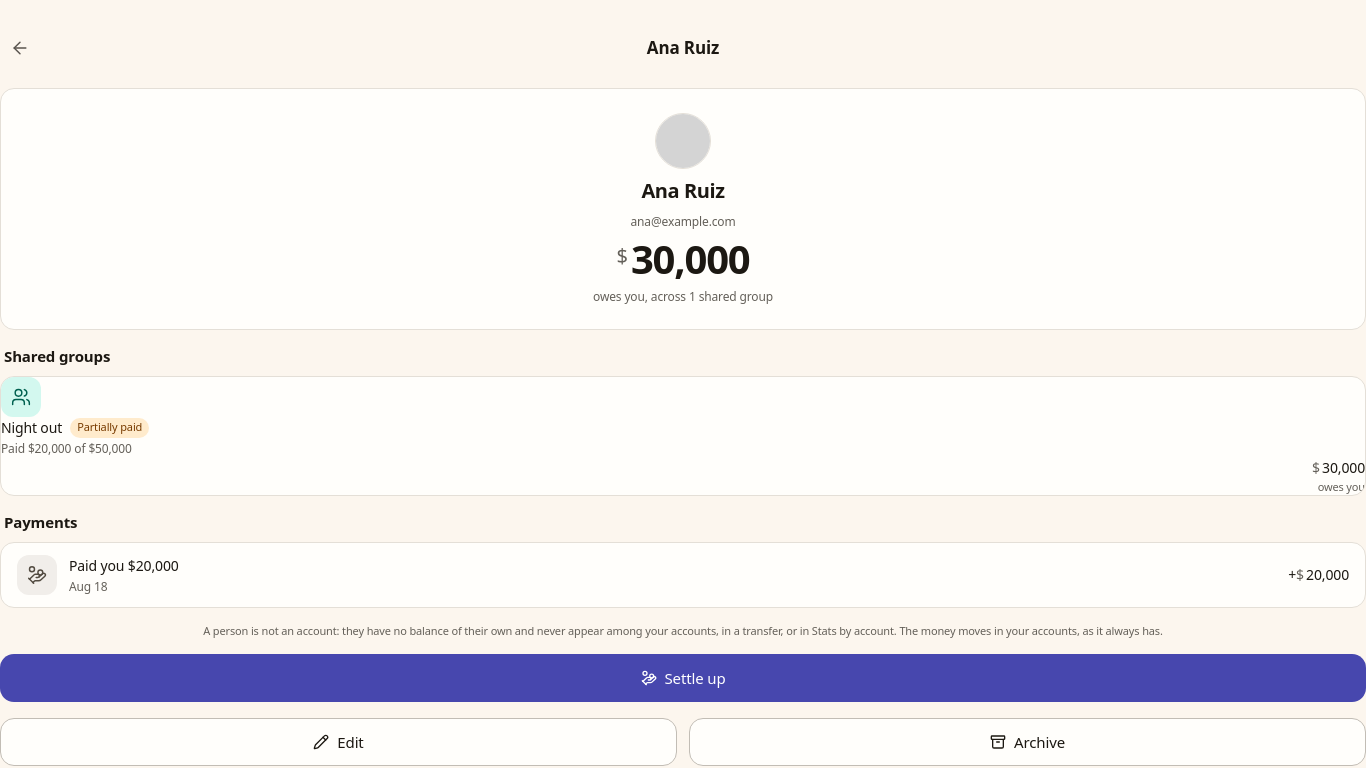
Test case: PersonScreen › says what went wrong and keeps the payment when the server refuses the undo
This screenshot has width=1366, height=768.
Click the button "Paid you $20,000 Aug 18 +$20,000": (37, 575) [1,543,1365,607]
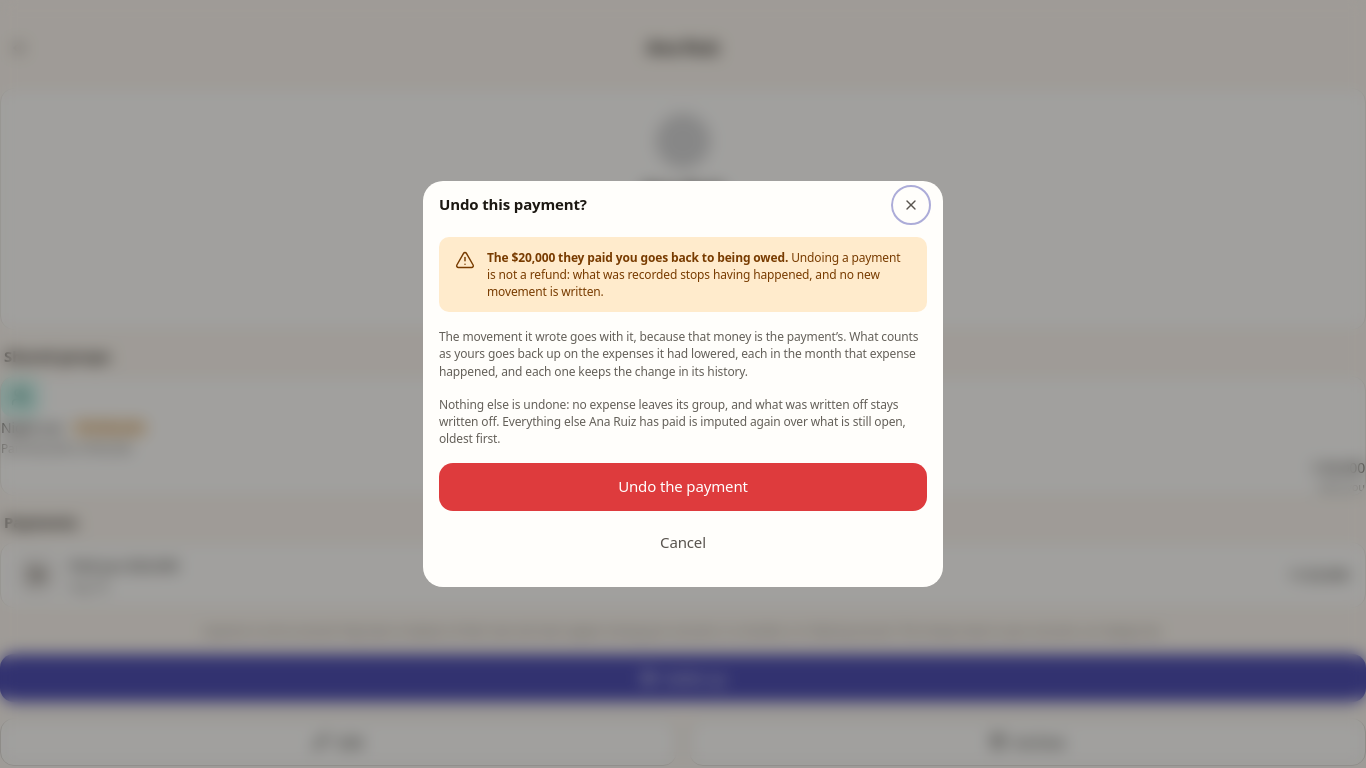
Click the 1st button named "Undo the payment": (683, 487) [439,463,927,511]
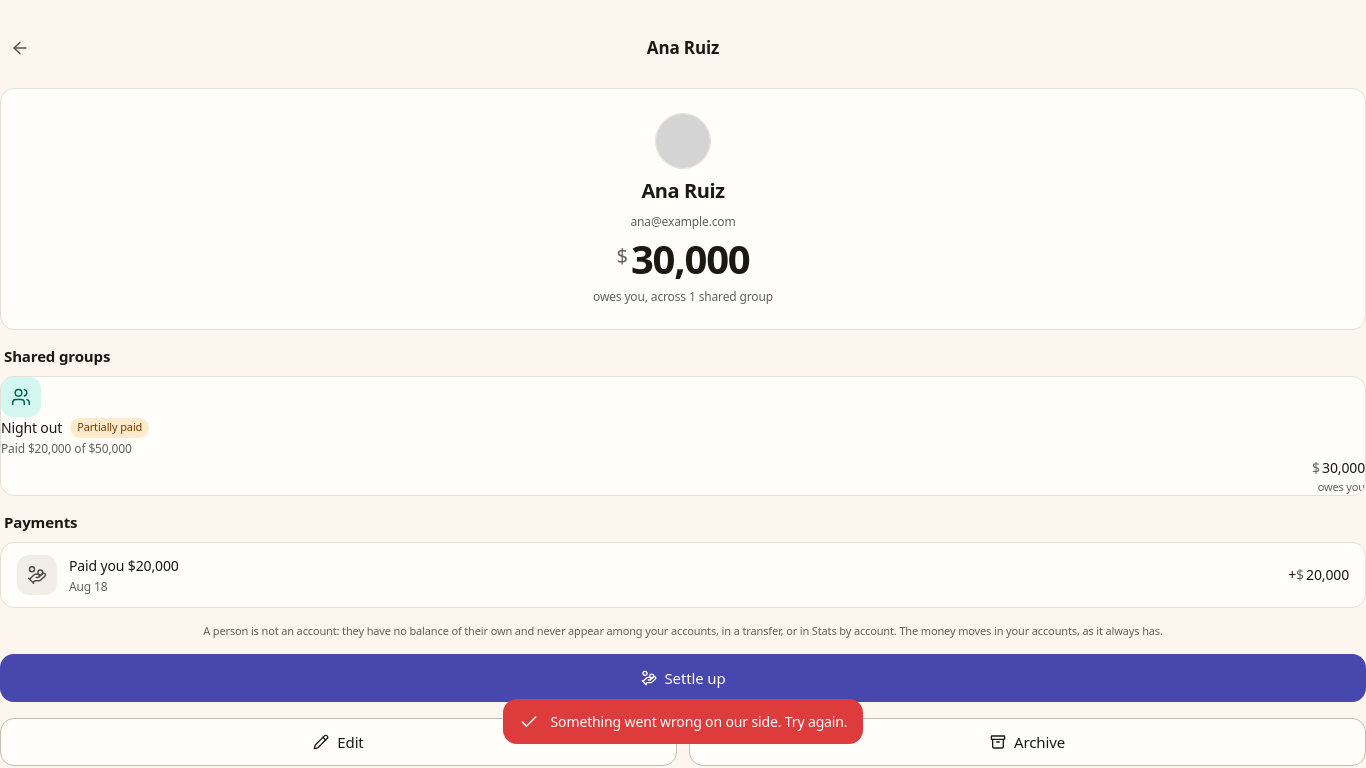
Check: the button "Paid you $20,000 Aug 18 +$20,000" is shown, box [1,543,1365,607]
Check: the text "Something went wrong on our side. Try again." is shown, box [503,699,863,744]
